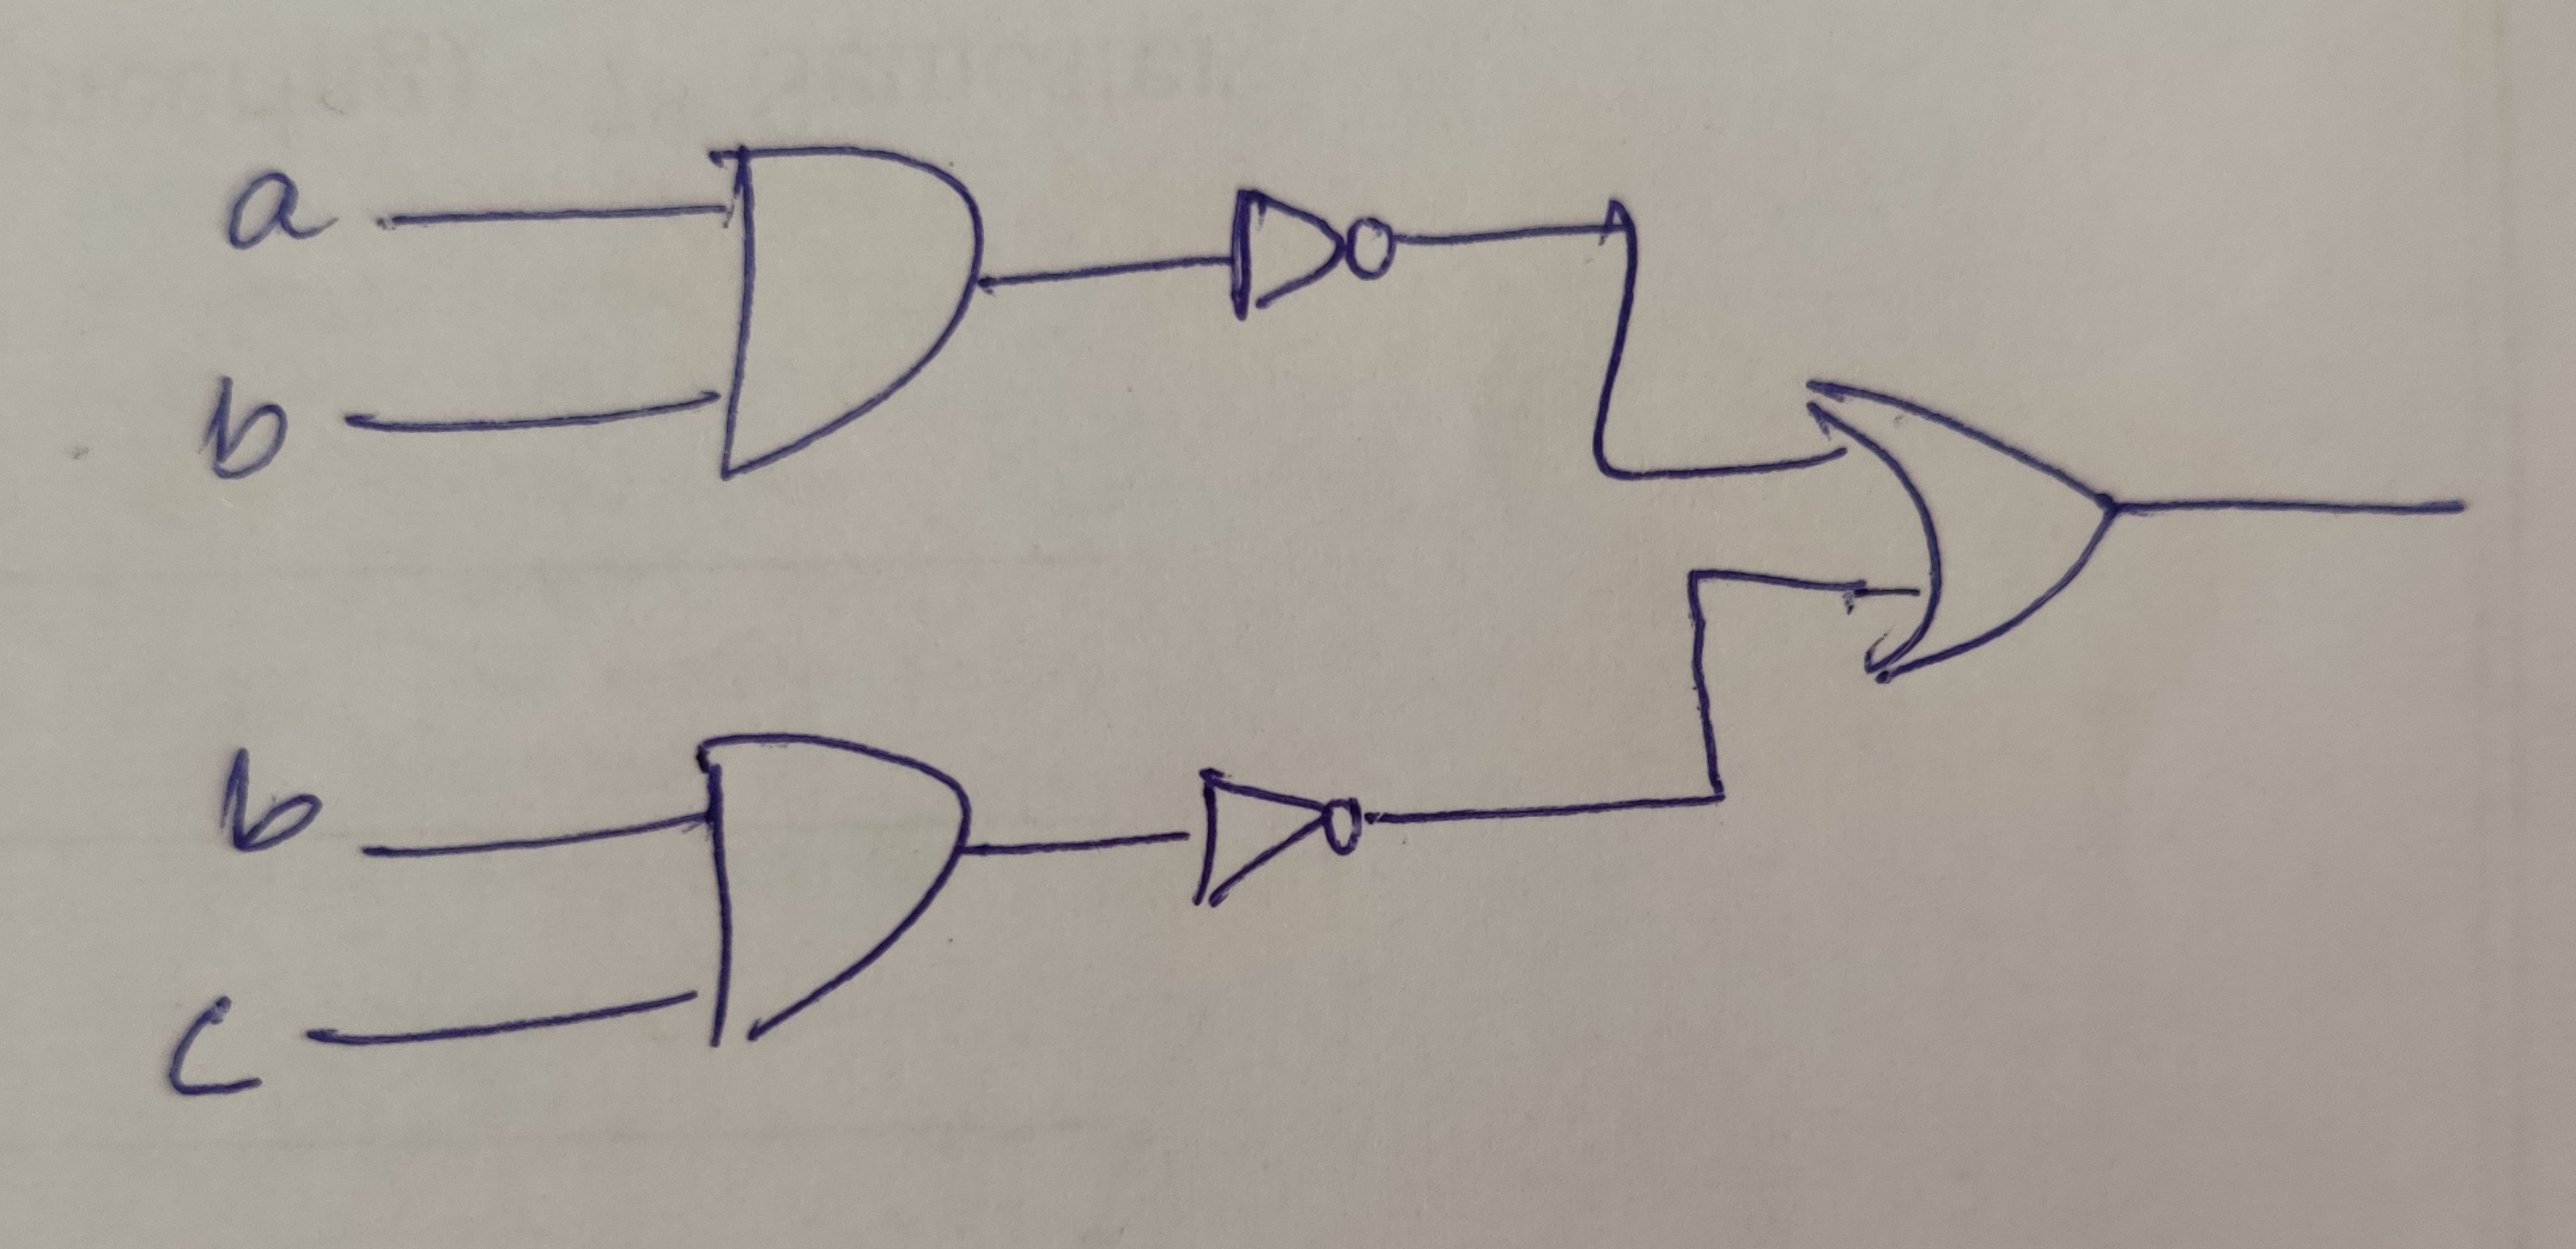and: (667, 92, 1046, 509), (652, 697, 1010, 1098)
not: (1203, 112, 1434, 388), (1153, 726, 1408, 976)
or: (1774, 337, 2134, 740)
